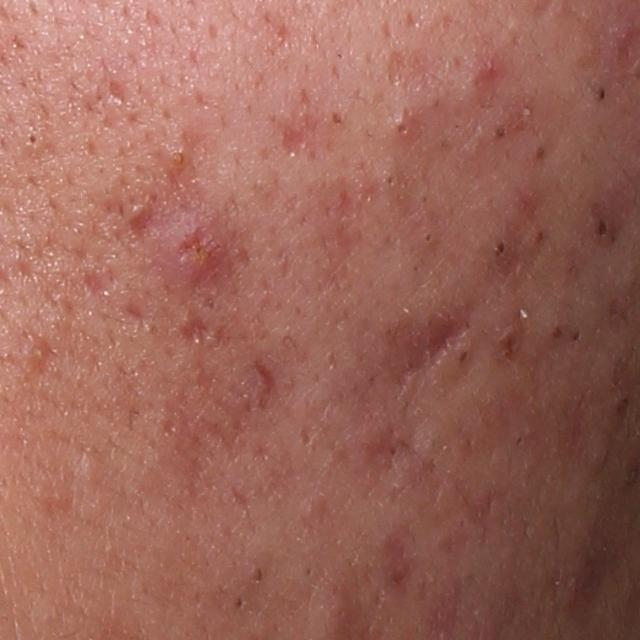atrophic_scar: (384, 305, 473, 395), (570, 526, 623, 626), (371, 421, 427, 479), (380, 48, 437, 94), (274, 112, 317, 161), (177, 309, 215, 346), (247, 354, 276, 399), (106, 75, 134, 106), (125, 300, 153, 322)
comedo: (169, 145, 195, 171), (22, 126, 44, 151), (610, 397, 629, 420), (592, 214, 608, 239), (419, 229, 437, 251), (456, 347, 472, 371), (592, 86, 609, 106), (381, 171, 398, 191), (393, 120, 409, 141), (534, 226, 551, 245), (493, 241, 508, 262), (531, 146, 548, 163), (232, 593, 247, 612), (252, 566, 266, 583), (548, 325, 562, 342), (569, 329, 583, 344), (329, 113, 342, 128), (492, 125, 504, 141)
papule: (158, 214, 236, 293), (18, 335, 53, 371), (470, 53, 501, 86)
